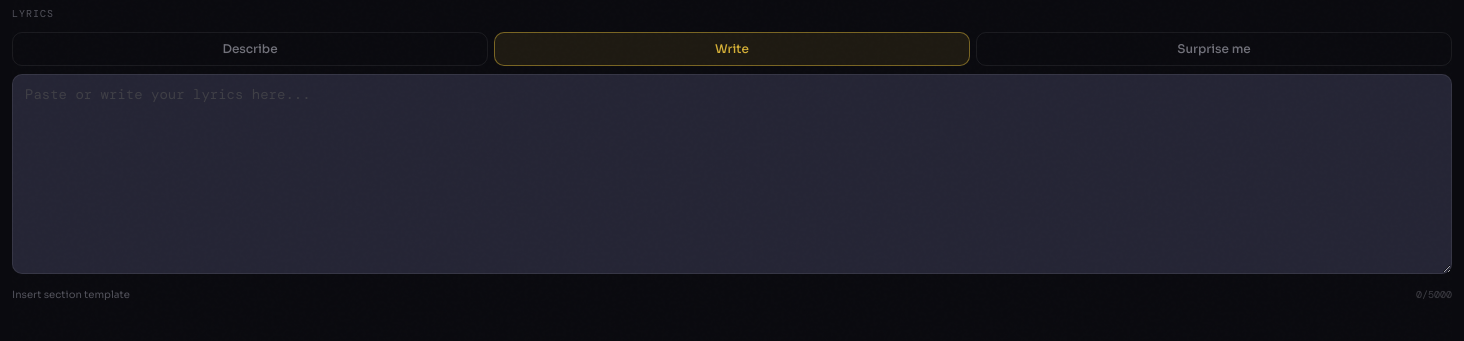
Scenario: LyricsStage › write mode inserts the section template and edits flow to the parent
Click the button "Insert section template" at [71, 294], box [12,287,130,302]
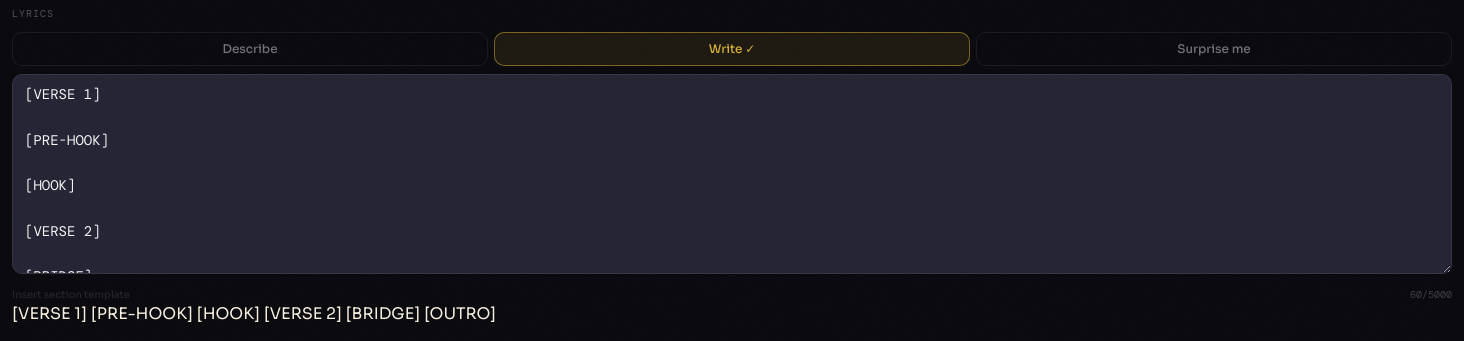
Replace the text in the text box named "Lyrics editor" with "my line" at [732, 174], box [12,74,1452,274]
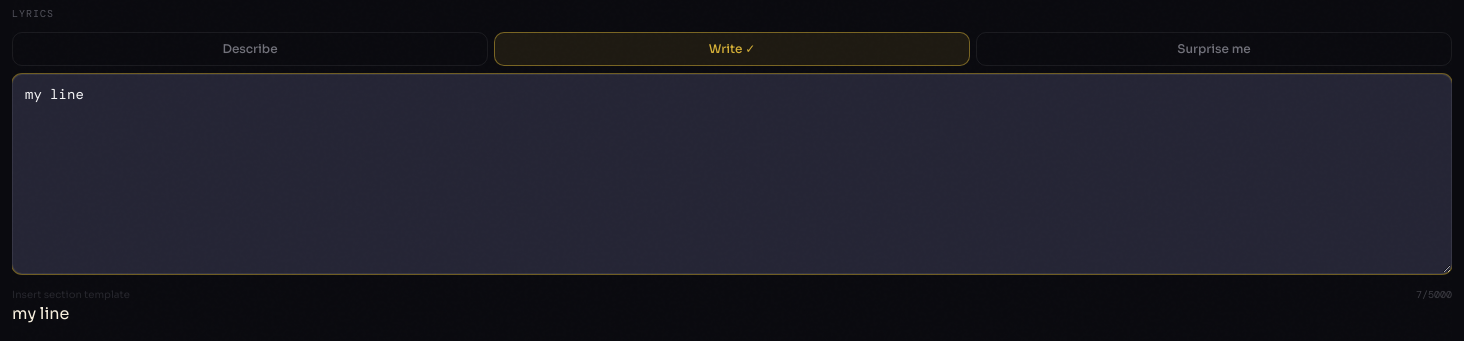
expect the text with test id "lyrics-value" reads "my line": met, box [12,303,69,324]
